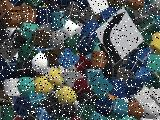Right: (94, 6, 144, 64)
